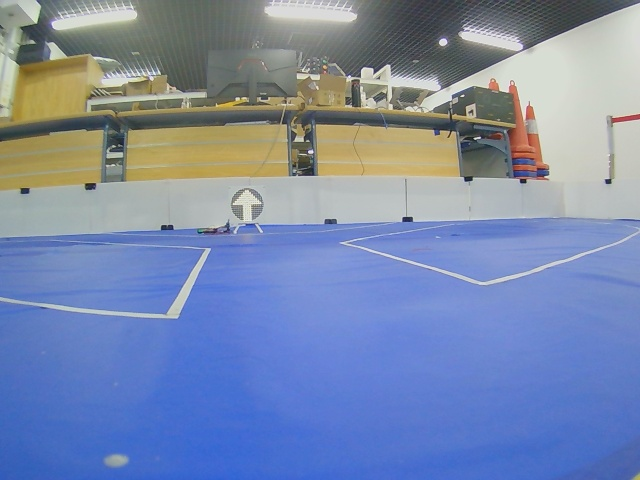straight_yellow: (231, 188, 263, 222)
